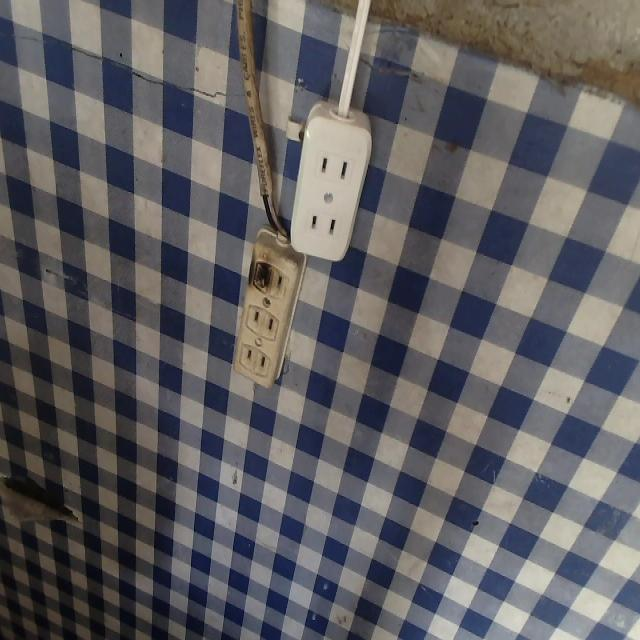-: (243, 251, 276, 304)
